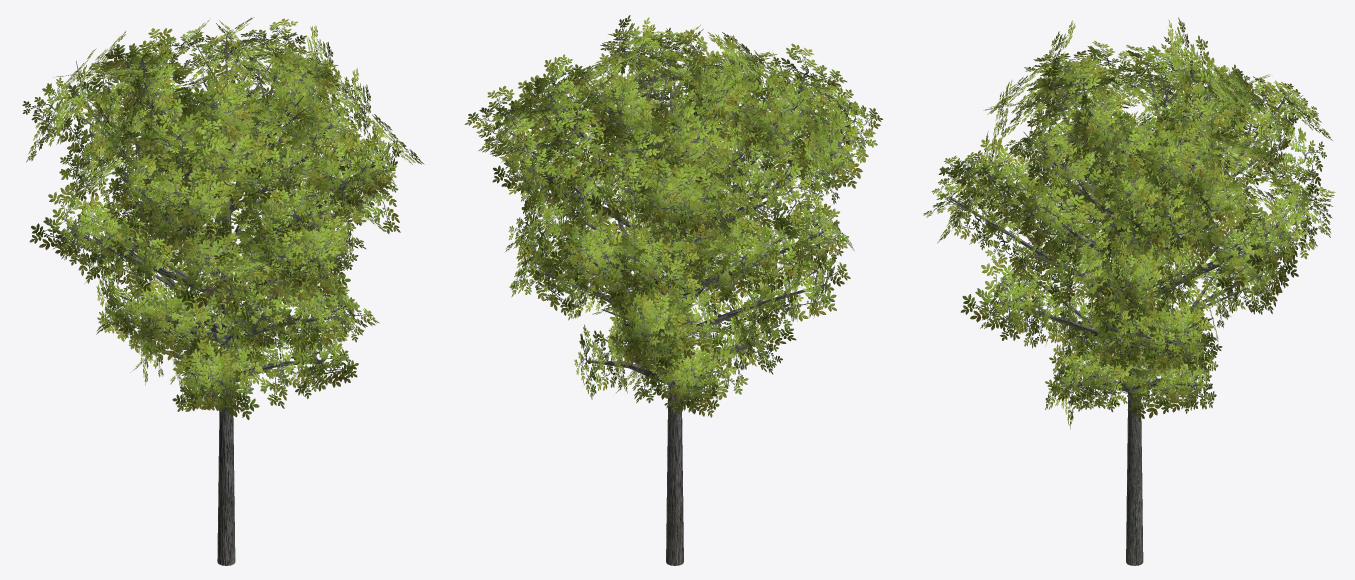
The model's file is Black_Locust_Model_0.obj.
3 renders of one model, left to right at view 1: azimuth 30°, elevation 25°; view 2: azimuth 150°, elevation 25°; view 3: azimuth 270°, elevation 25°, orthographic. The views are drawn at different scales.
Visible parts, largest first — view 1: Foliage__leafcard, Bark; view 2: Foliage__leafcard, Bark; view 3: Foliage__leafcard, Bark.
Part boxes in pixels (bbox=[...]): Foliage__leafcard: bbox=[22, 17, 424, 419]; Bark: bbox=[62, 33, 392, 565]; Foliage__leafcard: bbox=[464, 15, 882, 417]; Bark: bbox=[502, 41, 856, 565]; Foliage__leafcard: bbox=[923, 17, 1335, 429]; Bark: bbox=[947, 55, 1310, 565].
Size of the model in its own units: 9.47 by 13 by 9.56.
Materials: 2 (2 with a texture image).
